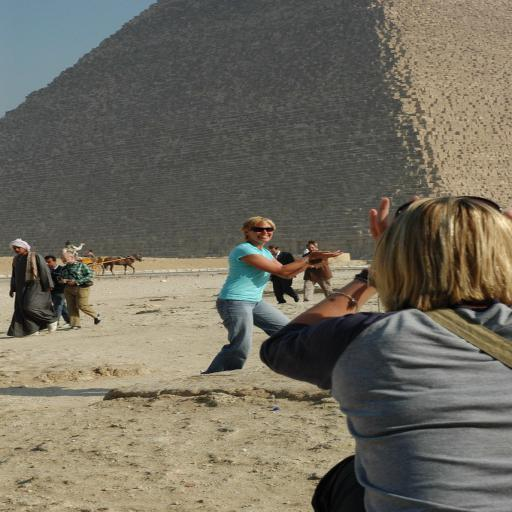horse: (102, 252, 144, 274)
